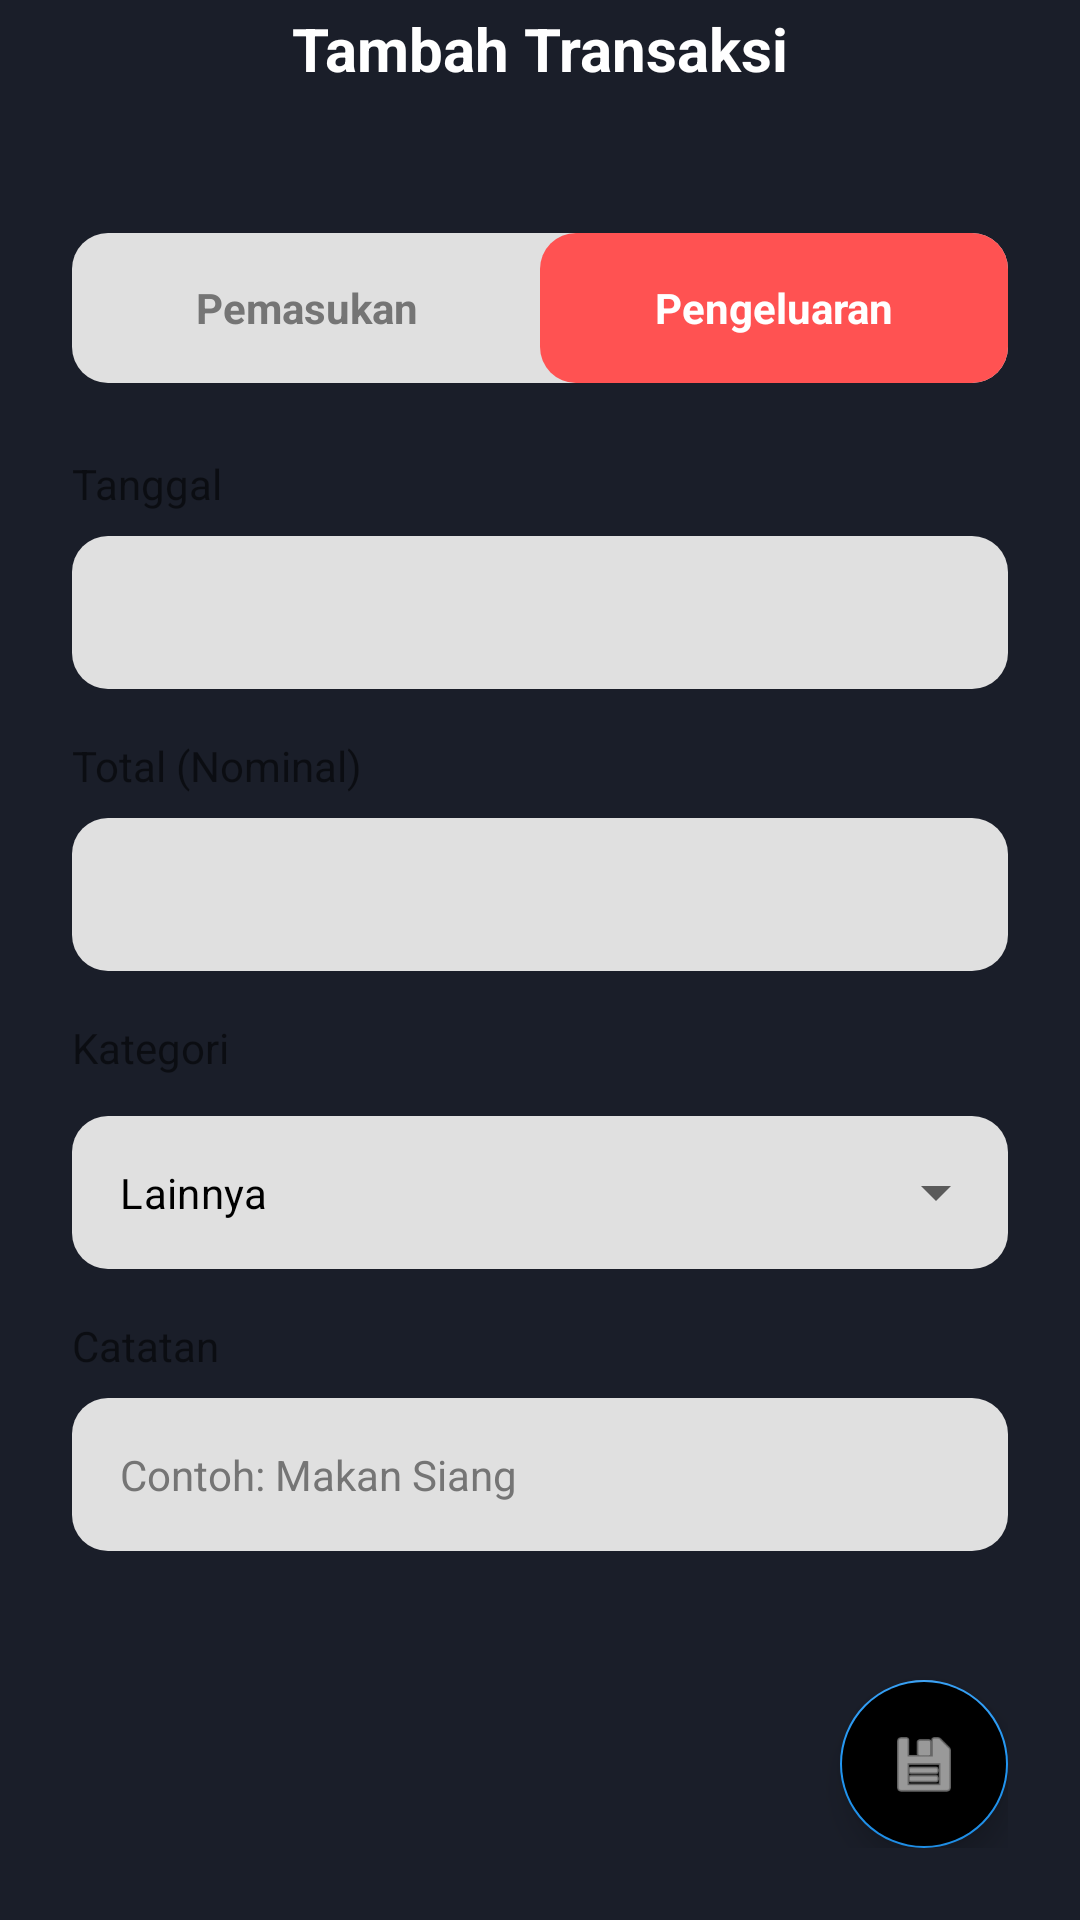

Icons on this 1080 × 1920 Android screen, each with its box as {"x1": x1, "y1": y1, "x2": x2, "y2": y2}:
save: {"x1": 840, "y1": 1680, "x2": 1008, "y2": 1848}
